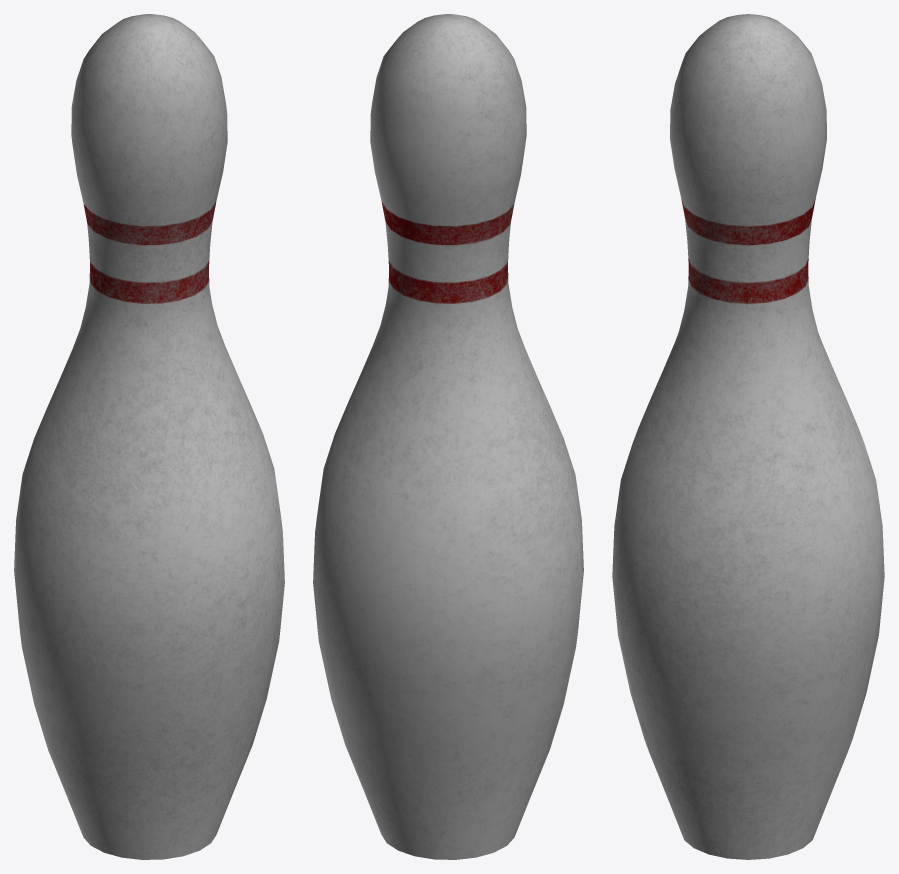
3 renders of one model, left to right at view 1: azimuth 30°, elevation 25°; view 2: azimuth 150°, elevation 25°; view 3: azimuth 270°, elevation 25°, orthographic.
Visible parts, largest first — view 1: Bowling_Pin_Geo; view 2: Bowling_Pin_Geo; view 3: Bowling_Pin_Geo.
Part boxes in pixels (x1=…): Bowling_Pin_Geo: x1=14, y1=14, x2=284, y2=859; Bowling_Pin_Geo: x1=313, y1=14, x2=583, y2=859; Bowling_Pin_Geo: x1=612, y1=14, x2=884, y2=859.
Bounding box in the file's own units: 73.84 × 243 × 73.84.
Materials: 1 (1 with a texture image).
